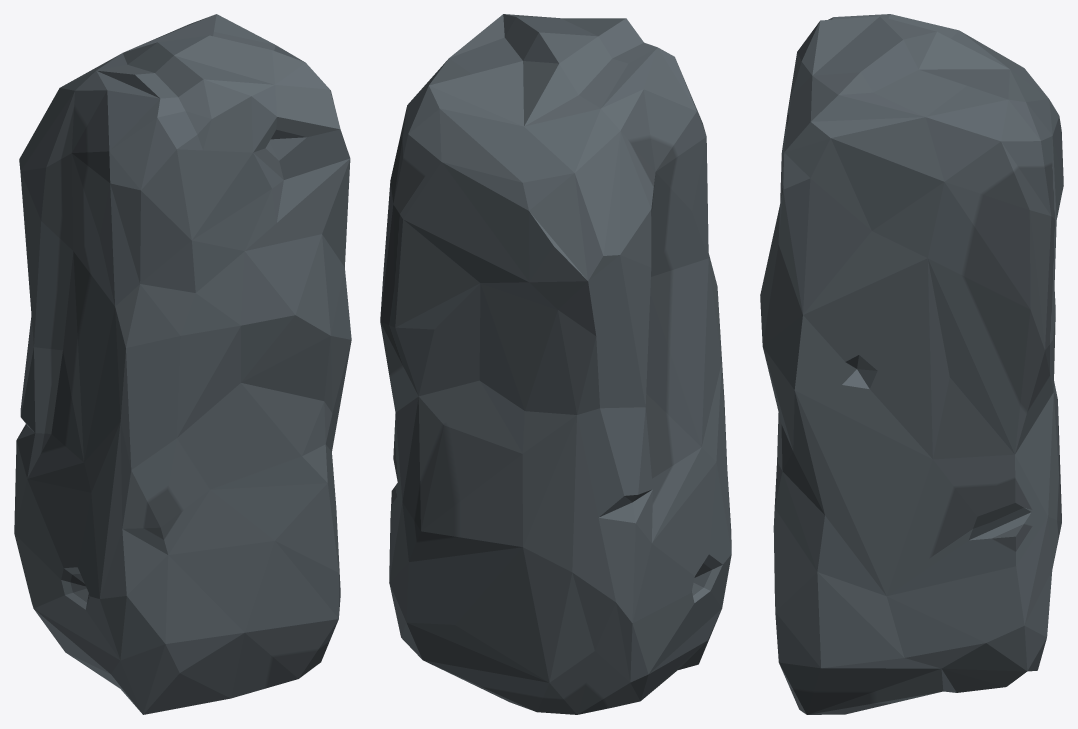
The model's file is SM_Env_Stone_03.fbx.
3 views of the same model, side by side, from view 1: azimuth 30°, elevation 25°; view 2: azimuth 150°, elevation 25°; view 3: azimuth 270°, elevation 25° (orthographic). The views are drawn at different scales.
Visible parts, largest first — view 1: SM_Env_Stone_03; view 2: SM_Env_Stone_03; view 3: SM_Env_Stone_03.
Boxes of the visible parts, bbox=[...] form: SM_Env_Stone_03: bbox=[14, 14, 351, 714]; SM_Env_Stone_03: bbox=[380, 14, 731, 714]; SM_Env_Stone_03: bbox=[760, 14, 1063, 714].
Bounding box in the file's own units: 133 × 325 × 135.
